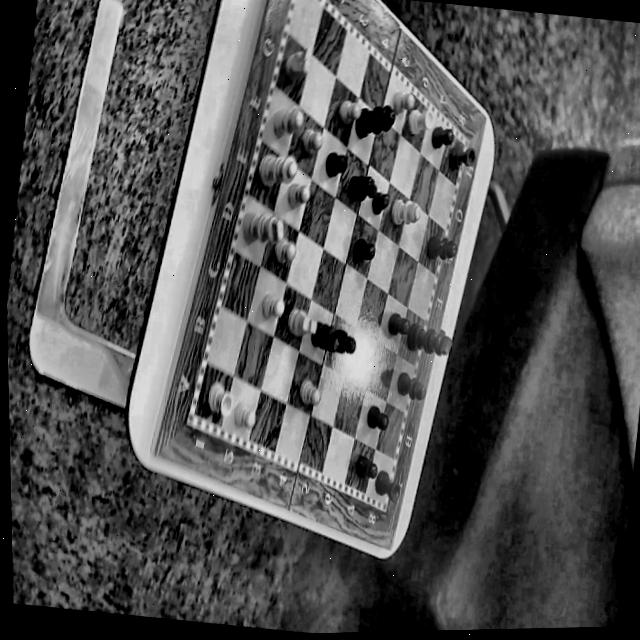chessboard: (194, 0, 466, 505)
